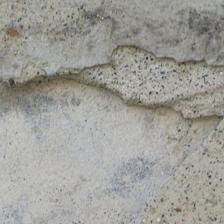Crack: (0, 0, 147, 116), (61, 12, 224, 113), (83, 29, 125, 59)
